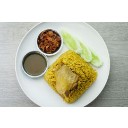briyani: (49, 54, 98, 101)
